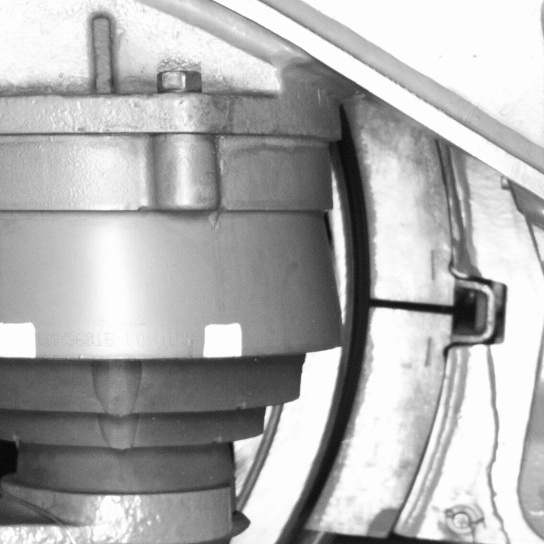KnifeSwitch: (274, 135, 474, 541)
